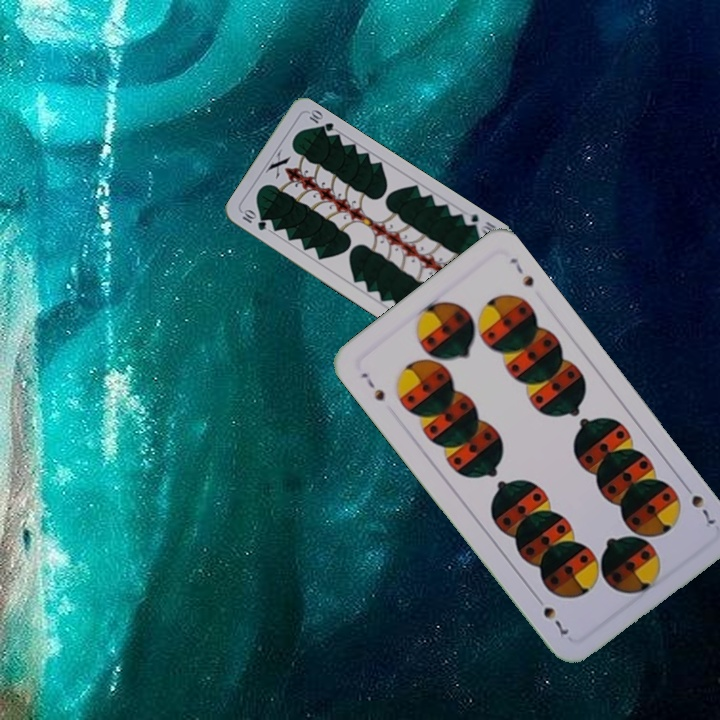G10: (458, 208, 499, 238), (238, 205, 269, 233)
S7: (679, 479, 718, 531), (357, 368, 387, 404)
